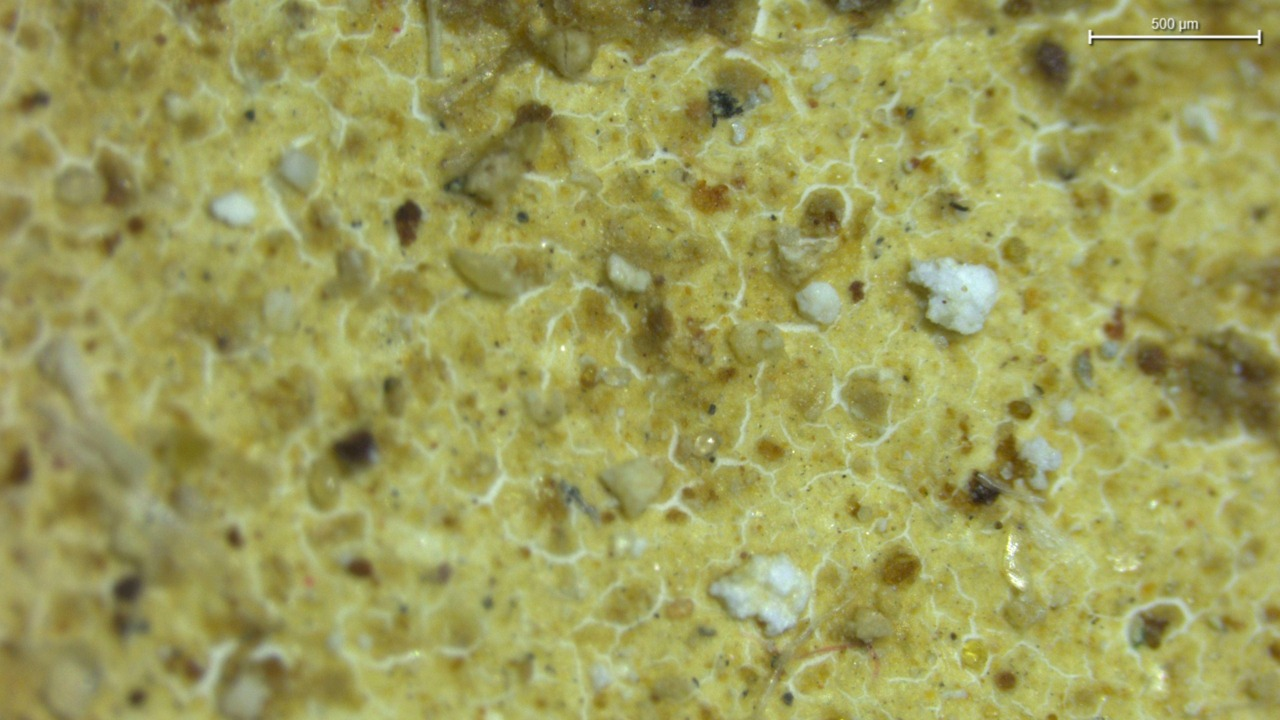microplastic_fragment: (709, 554, 813, 636), (908, 257, 999, 334), (1018, 437, 1062, 491), (795, 282, 841, 325)
